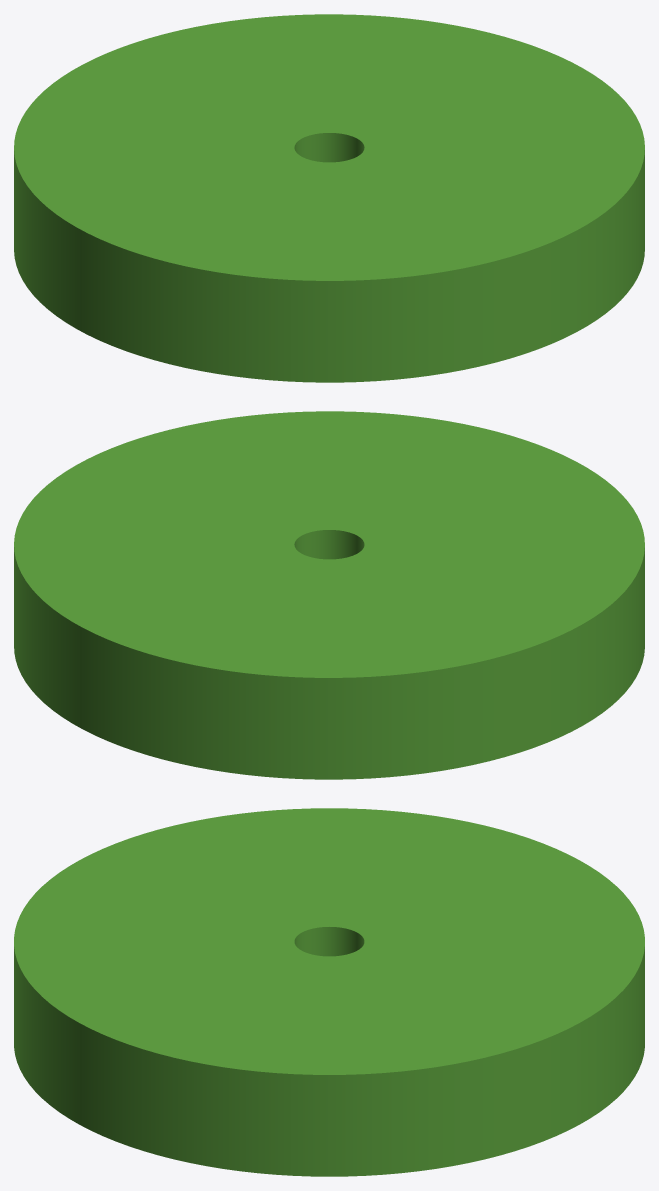
Rendered from Disk2.dae.
3 views of the same model, one above another, from view 1: azimuth 30°, elevation 25°; view 2: azimuth 150°, elevation 25°; view 3: azimuth 270°, elevation 25° (orthographic).
Visible parts, largest first — view 1: ID2; view 2: ID2; view 3: ID2.
Boxes of the visible parts, bbox=[...] form: ID2: bbox=[14, 14, 644, 382]; ID2: bbox=[14, 411, 644, 779]; ID2: bbox=[14, 808, 644, 1176].
Size of the model in its own units: 0.045 by 0.045 by 0.008.
